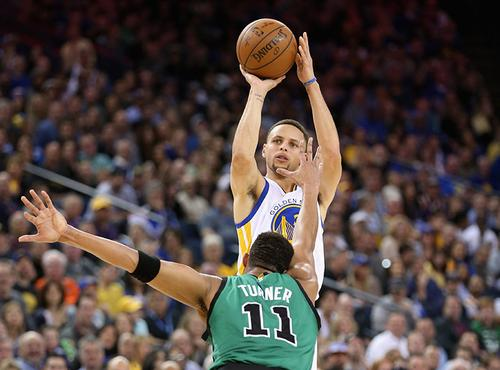ball: (236, 17, 299, 81)
